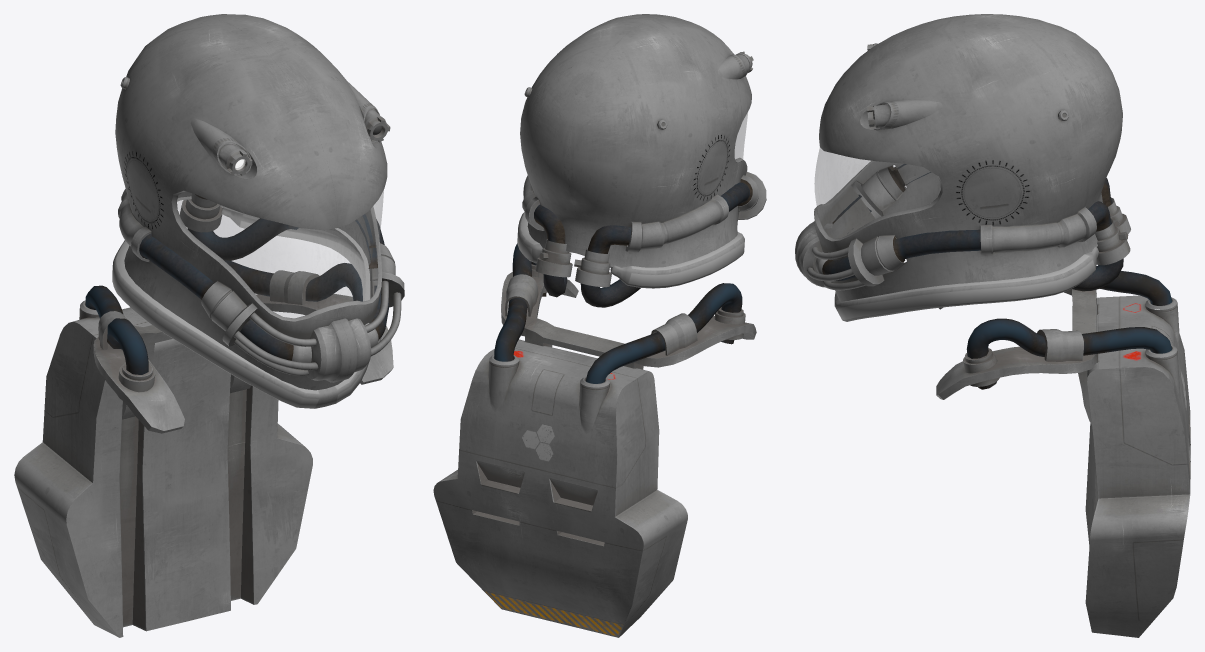
Rendered from astro-engineer-helmet-backpack.glb.
3 renders of one model, left to right at view 1: azimuth 30°, elevation 25°; view 2: azimuth 150°, elevation 25°; view 3: azimuth 270°, elevation 25°, orthographic. The views are drawn at different scales.
Parts seen in each view (by area): view 1: helmet-main_Baked, backpack_Baked, visor, shoulder-strap_Baked, helmet-padding_Baked, tube_Baked, helmet-tube_Baked, helmet-tube-inner_Baked, helmet-necknozzle_Baked; view 2: backpack_Baked, helmet-main_Baked, shoulder-strap_Baked, tube_Baked, helmet-padding_Baked, helmet-tube_Baked, helmet-tube-inner_Baked, helmet-necknozzle2_Baked, helmet-necknozzle_Baked; view 3: helmet-main_Baked, backpack_Baked, visor, shoulder-strap_Baked, helmet-padding_Baked, tube_Baked, helmet-tube_Baked, helmet-necknozzle_Baked, helmet-tube-inner_Baked.
Part boxes in pixels (left/top/right/bottom): helmet-main_Baked: left=115, top=14, right=404, bottom=390; backpack_Baked: left=14, top=300, right=312, bottom=637; visor: left=177, top=190, right=383, bottom=317; shoulder-strap_Baked: left=93, top=270, right=393, bottom=433; helmet-padding_Baked: left=112, top=208, right=370, bottom=408; tube_Baked: left=85, top=260, right=362, bottom=374; helmet-tube_Baked: left=139, top=194, right=389, bottom=360; helmet-tube-inner_Baked: left=145, top=218, right=298, bottom=260; helmet-necknozzle_Baked: left=180, top=193, right=222, bottom=232; backpack_Baked: left=433, top=339, right=687, bottom=637; helmet-main_Baked: left=520, top=14, right=766, bottom=268; shoulder-strap_Baked: left=501, top=264, right=756, bottom=369; tube_Baked: left=494, top=243, right=742, bottom=383; helmet-padding_Baked: left=517, top=212, right=744, bottom=288; helmet-tube_Baked: left=534, top=179, right=752, bottom=253; helmet-tube-inner_Baked: left=543, top=274, right=640, bottom=307; helmet-necknozzle2_Baked: left=574, top=248, right=611, bottom=287; helmet-necknozzle_Baked: left=535, top=239, right=572, bottom=277; helmet-main_Baked: left=795, top=14, right=1122, bottom=301; backpack_Baked: left=1085, top=295, right=1190, bottom=637; visor: left=814, top=148, right=940, bottom=238; shoulder-strap_Baked: left=936, top=289, right=1097, bottom=424; helmet-padding_Baked: left=834, top=203, right=1098, bottom=321; tube_Baked: left=966, top=266, right=1172, bottom=389; helmet-tube_Baked: left=822, top=164, right=1112, bottom=280; helmet-necknozzle_Baked: left=1095, top=219, right=1130, bottom=265; helmet-tube-inner_Baked: left=1071, top=258, right=1123, bottom=291.
Bounding box in the file's own units: 0.2598 × 0.5897 × 0.3633.
2 materials, 2 textured.
